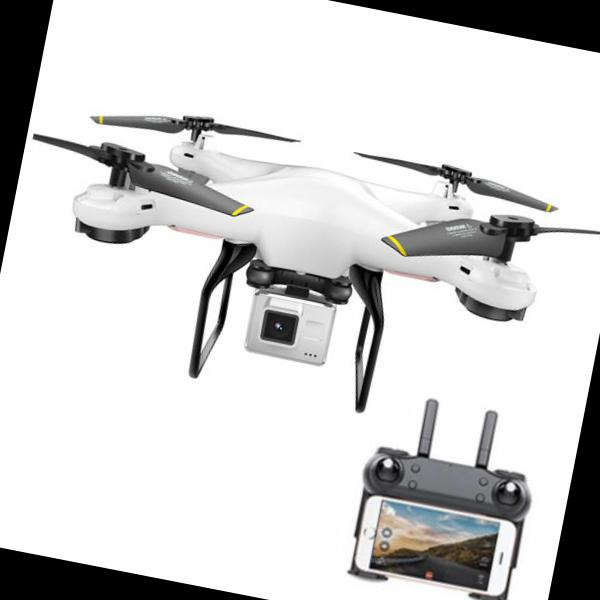drone: (0, 66, 600, 445)
